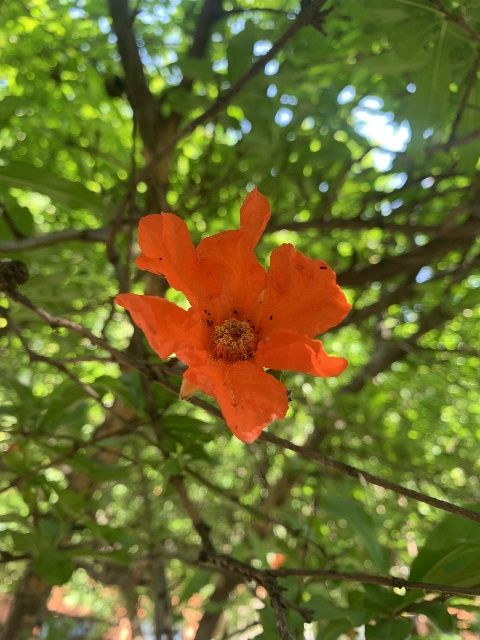flower: (115, 185, 353, 443)
